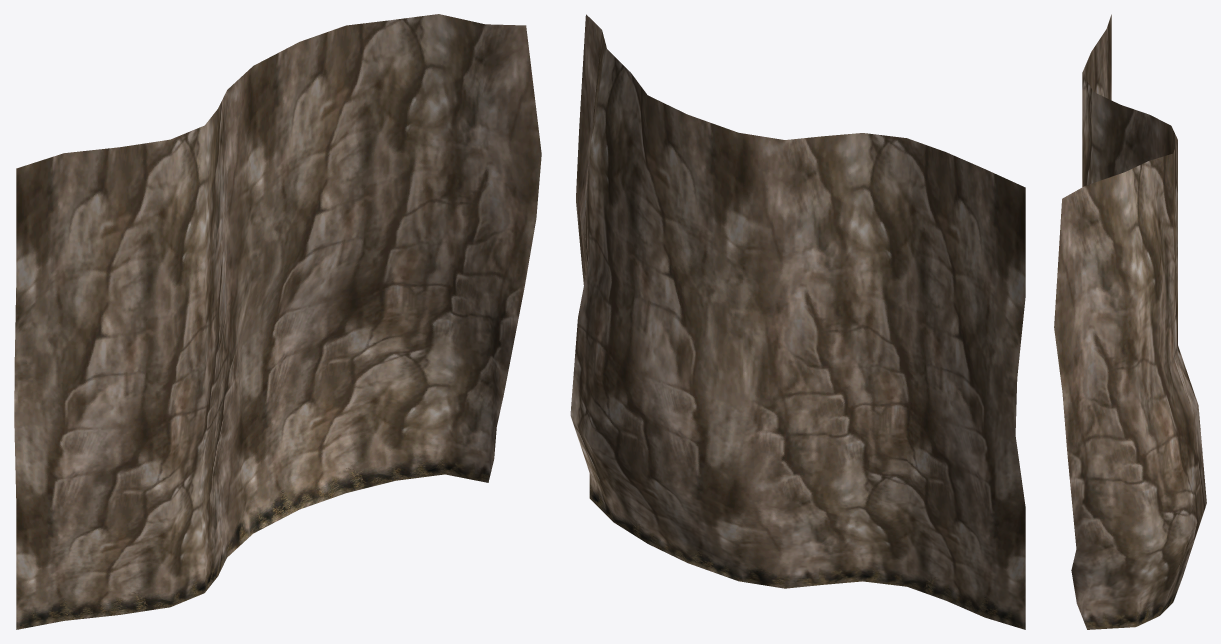
The model's file is OVERHILL_A_01_LINE106.fbx.
The picture shows the model from 3 angles, left to right: view 1: azimuth 30°, elevation 25°; view 2: azimuth 150°, elevation 25°; view 3: azimuth 270°, elevation 25°; orthographic projection. The views are drawn at different scales.
Visible parts, largest first — view 1: OVERHILL_A_01_LINE106; view 2: OVERHILL_A_01_LINE106; view 3: OVERHILL_A_01_LINE106.
Boxes of the visible parts, left/top/right/bottom form: OVERHILL_A_01_LINE106: left=14, top=14, right=541, bottom=629; OVERHILL_A_01_LINE106: left=570, top=14, right=1025, bottom=629; OVERHILL_A_01_LINE106: left=1054, top=14, right=1206, bottom=629.
Bounding box in the file's own units: 111994 × 109321 × 31143.
2 materials, 2 textured.
